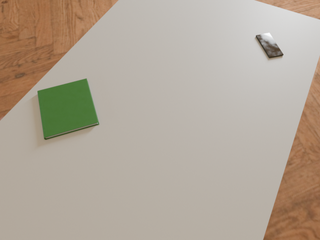book: (38, 79, 99, 140)
phone: (256, 33, 283, 58)
